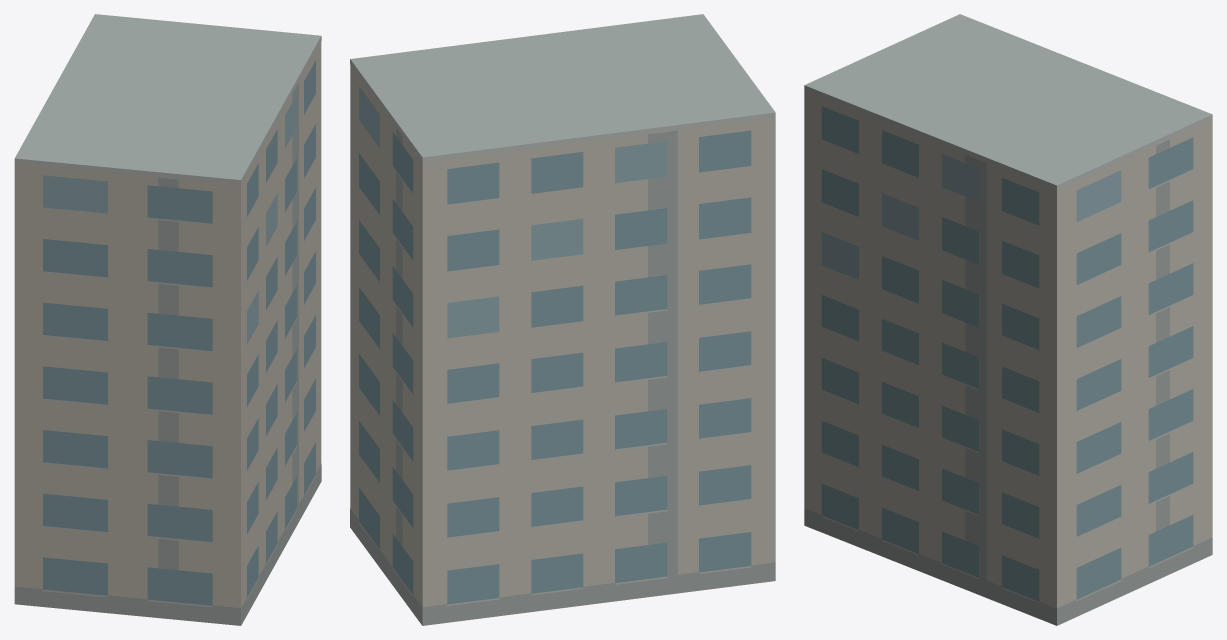
Rendered from survey-upis-32852526.glb.
The picture shows the model from 3 angles, left to right: view 1: azimuth 30°, elevation 25°; view 2: azimuth 150°, elevation 25°; view 3: azimuth 270°, elevation 25°; orthographic projection. The views are drawn at different scales.
Parts seen in each view (by area): view 1: survey-upis-32852526.tmp; view 2: survey-upis-32852526.tmp; view 3: survey-upis-32852526.tmp.
Part boxes in pixels (bbox=[...]): survey-upis-32852526.tmp: bbox=[14, 14, 321, 625]; survey-upis-32852526.tmp: bbox=[350, 14, 775, 625]; survey-upis-32852526.tmp: bbox=[804, 14, 1212, 625].
Size of the model in its own units: 16.76 by 20.05 by 16.86.
